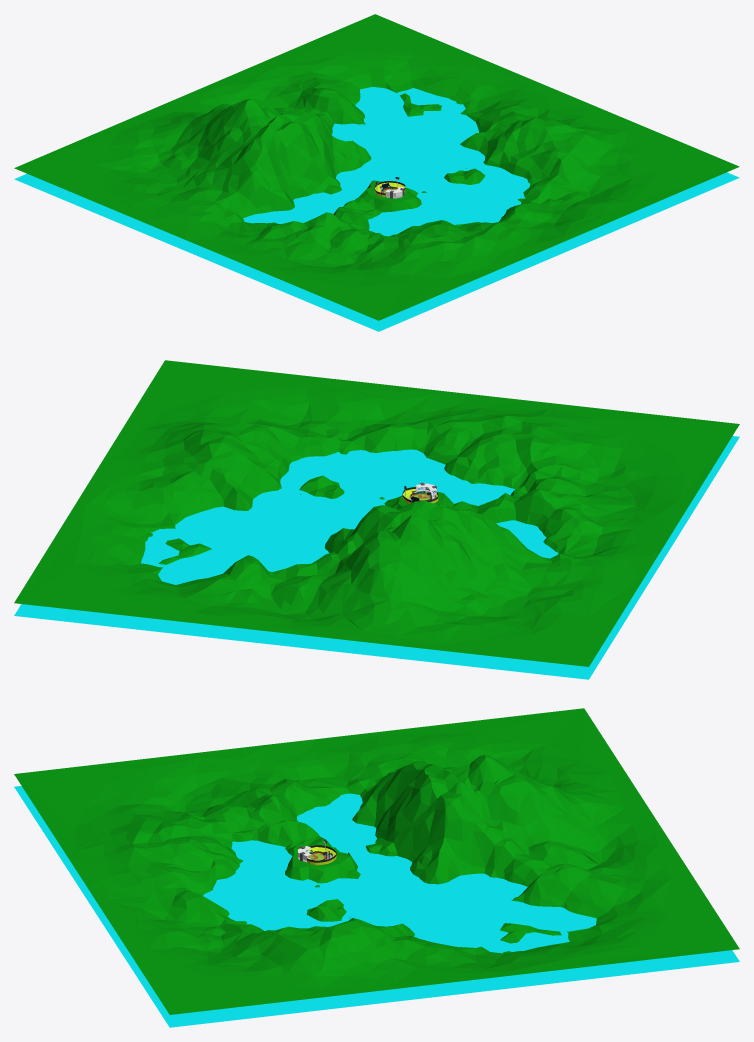
Rendered from NewBaseBallStadium_V2.fbx.
3 renders of one model, top to bottom at view 1: azimuth 30°, elevation 25°; view 2: azimuth 150°, elevation 25°; view 3: azimuth 270°, elevation 25°, orthographic. The views are drawn at different scales.
Visible parts, largest first — view 1: Landscape.001, Landscape_plane; view 2: Landscape.001, Landscape_plane; view 3: Landscape.001, Landscape_plane.
Part boxes in pixels (x1,y1,x2,y2): Landscape.001: (14, 14, 739, 320); Landscape_plane: (14, 87, 739, 331); Landscape.001: (14, 360, 739, 666); Landscape_plane: (14, 436, 739, 679); Landscape.001: (14, 708, 739, 1014); Landscape_plane: (14, 786, 739, 1027).
Size of what is drawn, in the model's own units: 70130 by 9352 by 70130.
